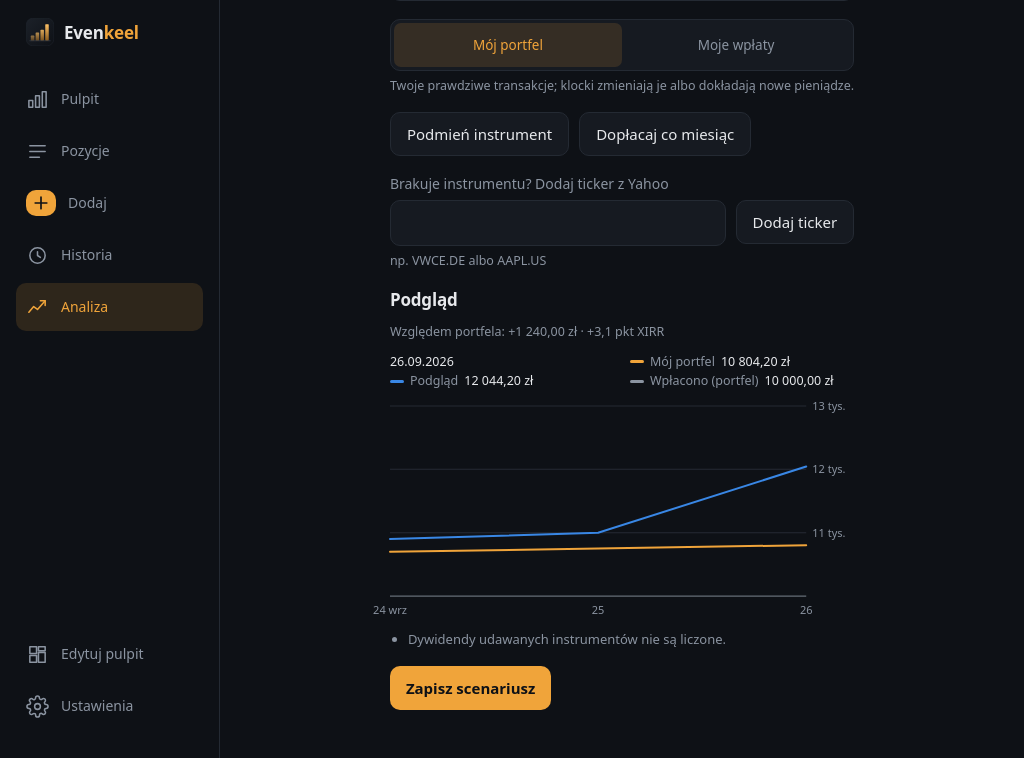
it: Scenario editor › says what is missing before saving
(page scrolled)
Click the button "Zapisz scenariusz".
click(471, 688)  # box [390,666,551,710]
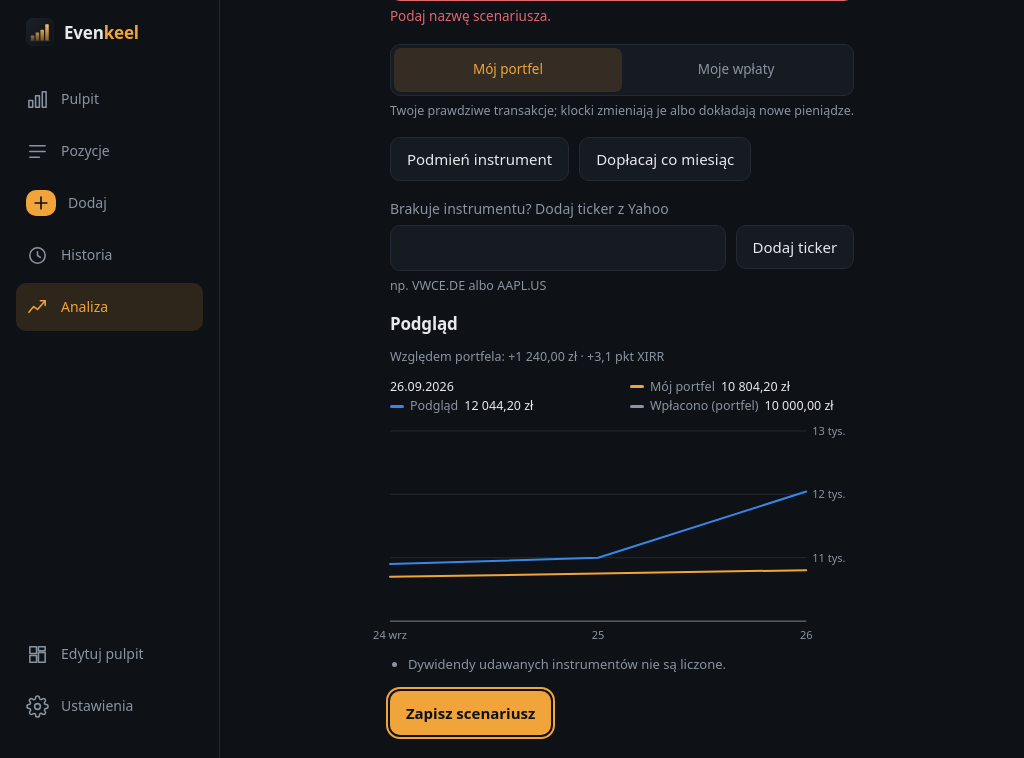
Expected: the text "Podaj nazwę scenariusza." is shown, [390,7,551,25]
